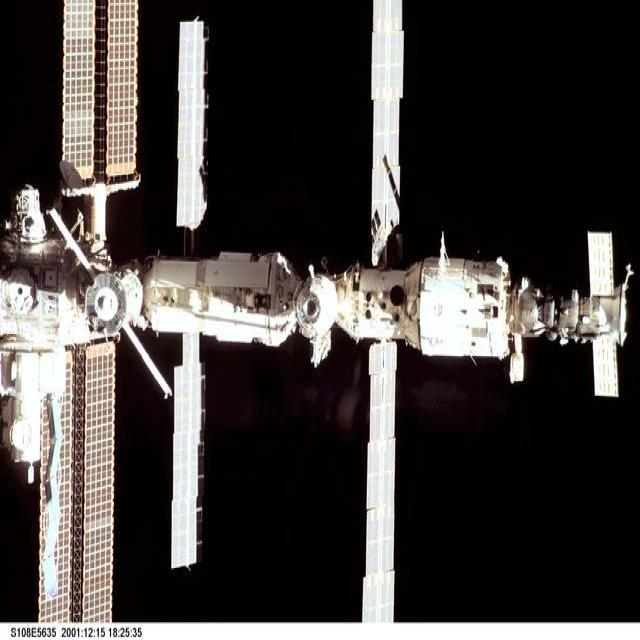medium_debris: (0, 0, 628, 622), (176, 20, 206, 229)
